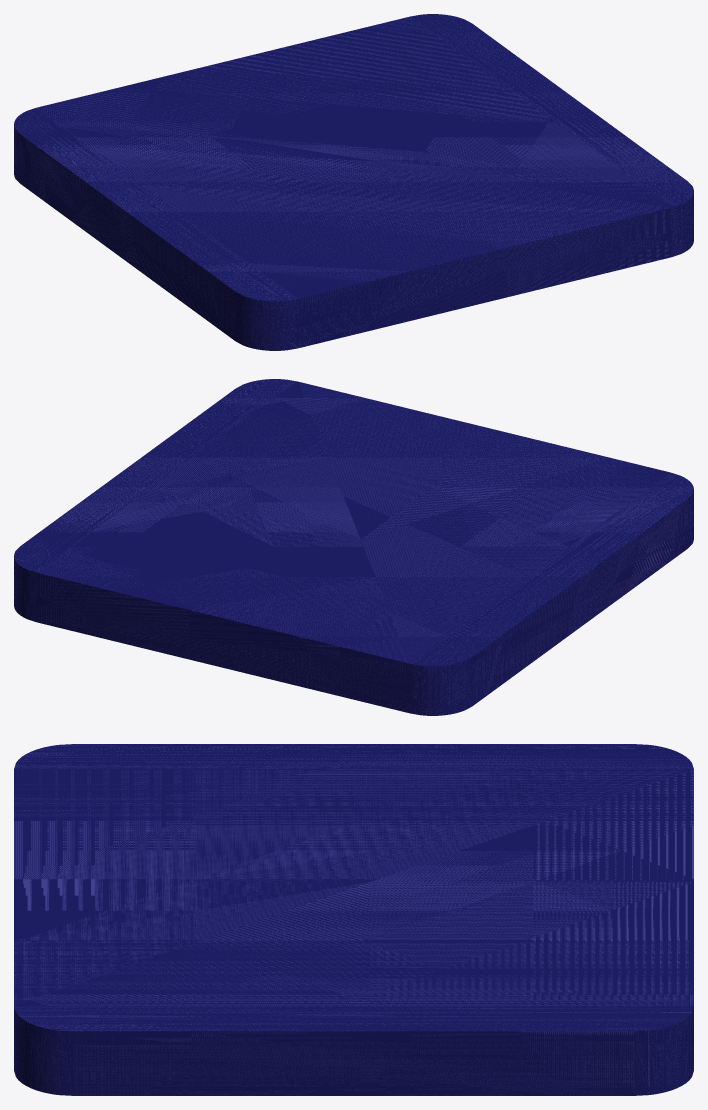
The model's file is original-6.obj.
3 renders of one model, top to bottom at view 1: azimuth 30°, elevation 25°; view 2: azimuth 150°, elevation 25°; view 3: azimuth 270°, elevation 25°, orthographic. The views are drawn at different scales.
Visible parts, largest first — view 1: mesh5/mesh5-geometry#mesh5-geometry; view 2: mesh5/mesh5-geometry#mesh5-geometry; view 3: mesh5/mesh5-geometry#mesh5-geometry.
Boxes of the visible parts, x1,y1,x2,y2 form: mesh5/mesh5-geometry#mesh5-geometry: [14, 14, 693, 350]; mesh5/mesh5-geometry#mesh5-geometry: [14, 379, 693, 715]; mesh5/mesh5-geometry#mesh5-geometry: [14, 744, 693, 1095].
Size of the model in its own units: 0.1057 by 0.0111 by 0.1057.
